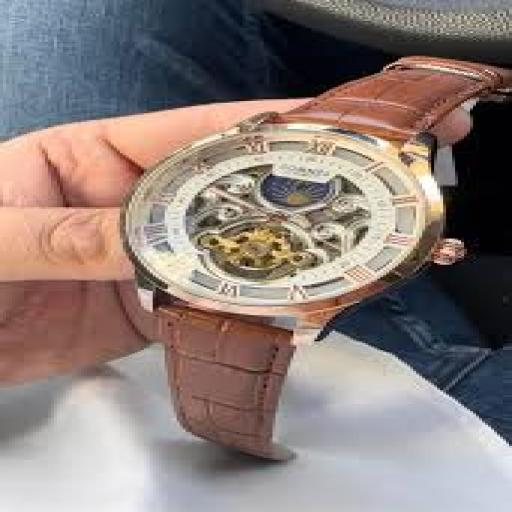KolSaati: (62, 26, 476, 464)
